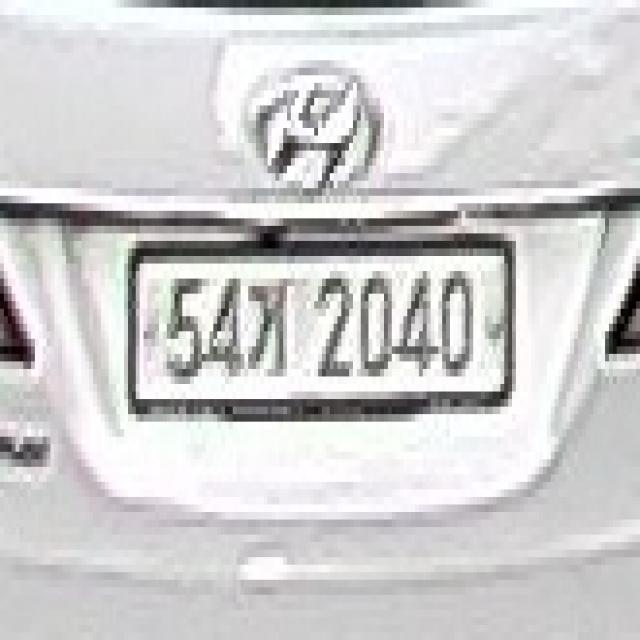0: (438, 241, 481, 376), (357, 271, 392, 384)
2: (310, 271, 357, 392)
4: (396, 256, 442, 384), (210, 278, 244, 392)
5: (163, 271, 205, 384)
geo: (240, 271, 291, 384)
license_plate: (116, 226, 524, 429)
